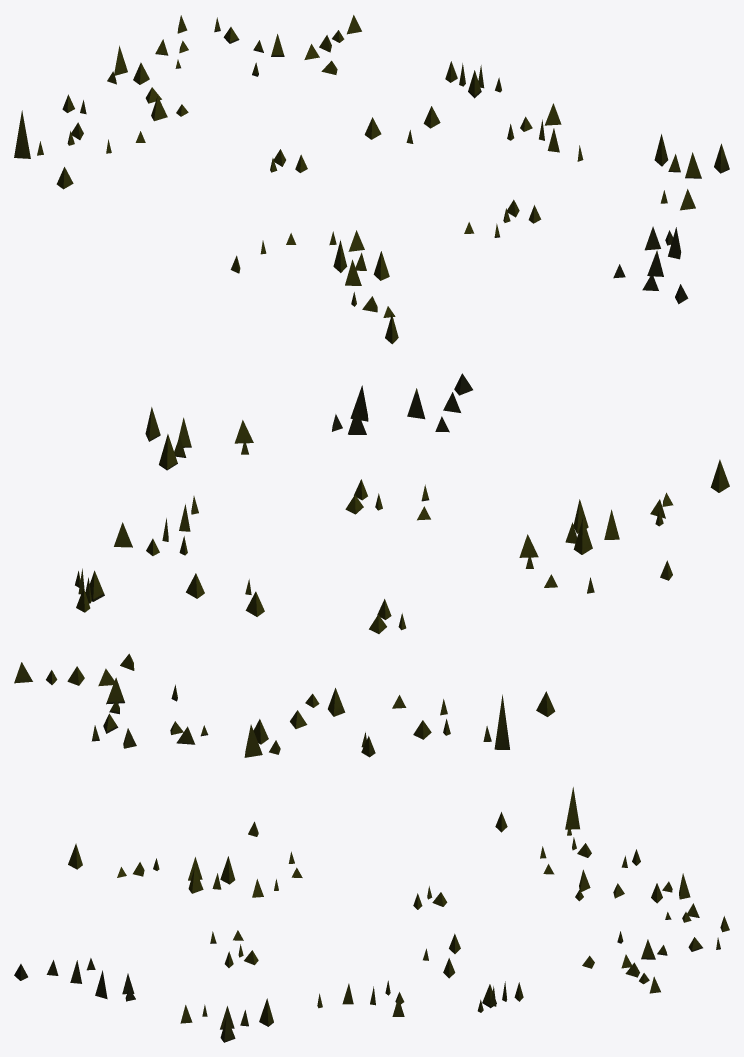
Rendered from Plant_01.FBX.
3 views of the same model, one above another, from view 1: azimuth 30°, elevation 25°; view 2: azimuth 150°, elevation 25°; view 3: azimuth 270°, elevation 25° (orthographic). The views are drawn at different scales.
Visible parts, largest first — view 1: Plant_01; view 2: Plant_01; view 3: Plant_01.
Part boxes in pixels (x1=…): Plant_01: x1=14, y1=15, x2=729, y2=344; Plant_01: x1=14, y1=373, x2=729, y2=757; Plant_01: x1=14, y1=787, x2=729, y2=1042.
Bounding box in the file's own units: 14.18 × 1.28 × 19.14.
